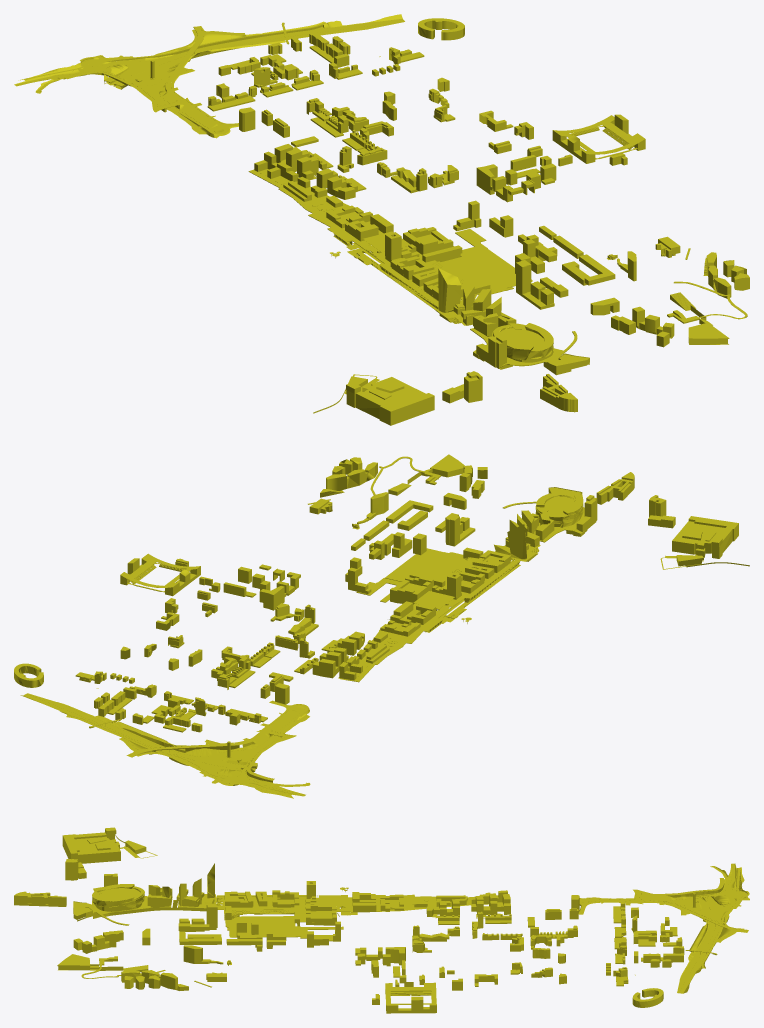
The model's file is PAM_uudet_rakennukset_WSP.fbx.
3 views of the same model, one above another, from view 1: azimuth 30°, elevation 25°; view 2: azimuth 150°, elevation 25°; view 3: azimuth 270°, elevation 25° (orthographic). The views are drawn at different scales.
Parts seen in each view (by area): view 1: Uudet rakennukset.001; view 2: Uudet rakennukset.001; view 3: Uudet rakennukset.001.
Boxes of the visible parts, bbox=[...] form: Uudet rakennukset.001: bbox=[14, 14, 749, 425]; Uudet rakennukset.001: bbox=[14, 454, 749, 798]; Uudet rakennukset.001: bbox=[14, 827, 749, 1013].
Bounding box in the file's own units: 1171 × 111 × 1902.
